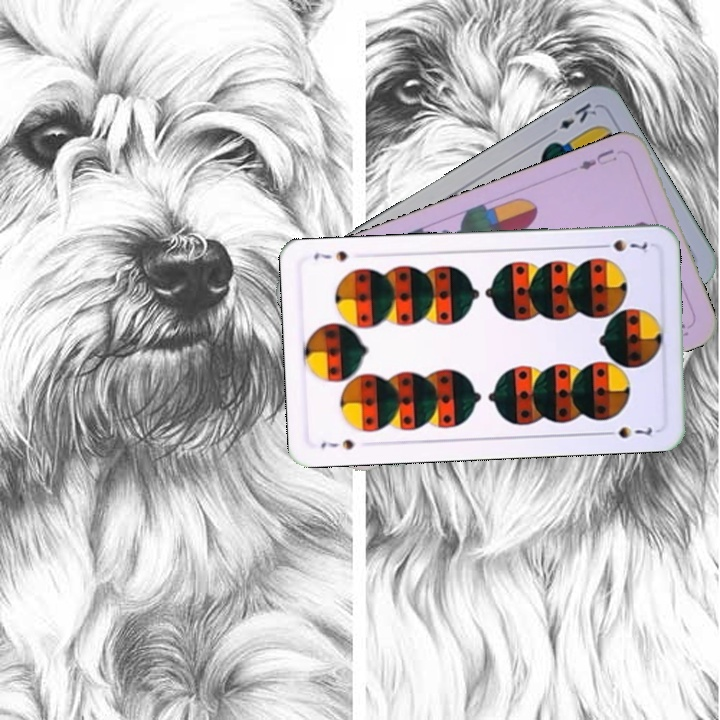EK: (544, 98, 600, 139)
EU: (575, 145, 620, 173)
S7: (594, 235, 650, 255), (317, 435, 357, 452)
